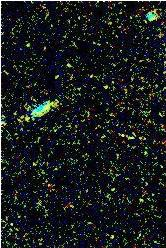star: (13, 102, 43, 132)
